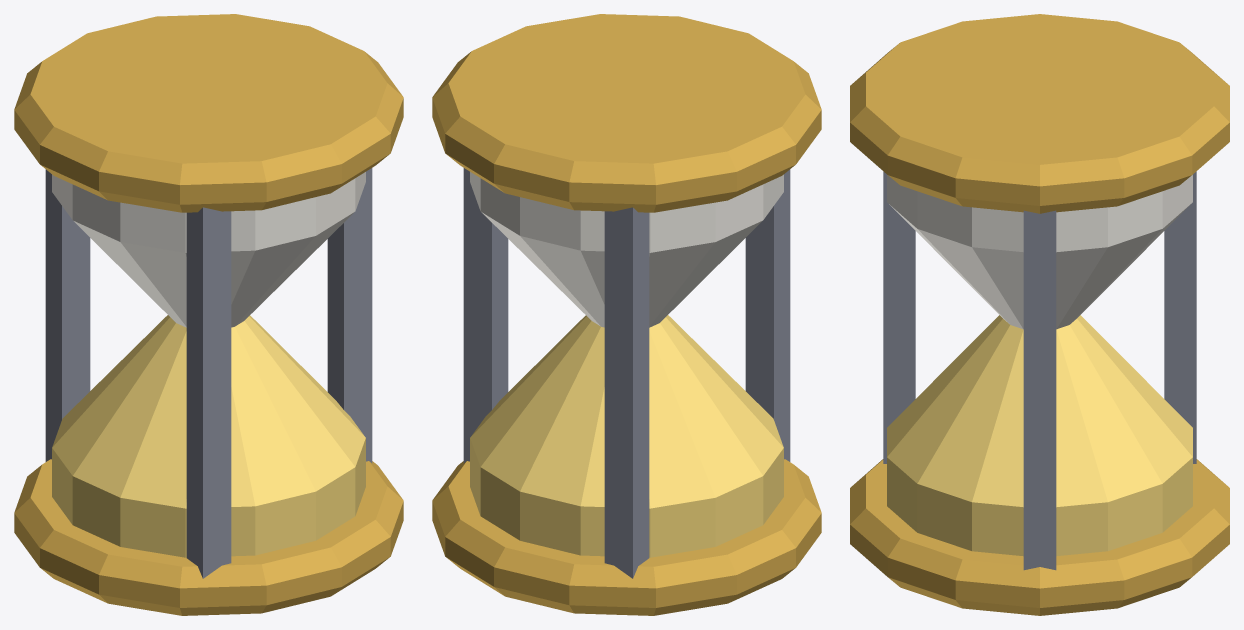
File: game-ui-icon-library-hourglass-9a36b877__18993.glb
The picture shows the model from 3 angles, left to right: view 1: azimuth 30°, elevation 25°; view 2: azimuth 150°, elevation 25°; view 3: azimuth 270°, elevation 25°; orthographic projection.
Visible parts, largest first — view 1: hourglass; view 2: hourglass; view 3: hourglass.
Boxes of the visible parts, x1,y1,x2,y2 form: hourglass: (14,14,403,615); hourglass: (432,14,821,615); hourglass: (850,14,1229,615).
Size of the model in its own units: 0.7356 by 0.94 by 0.7173.
